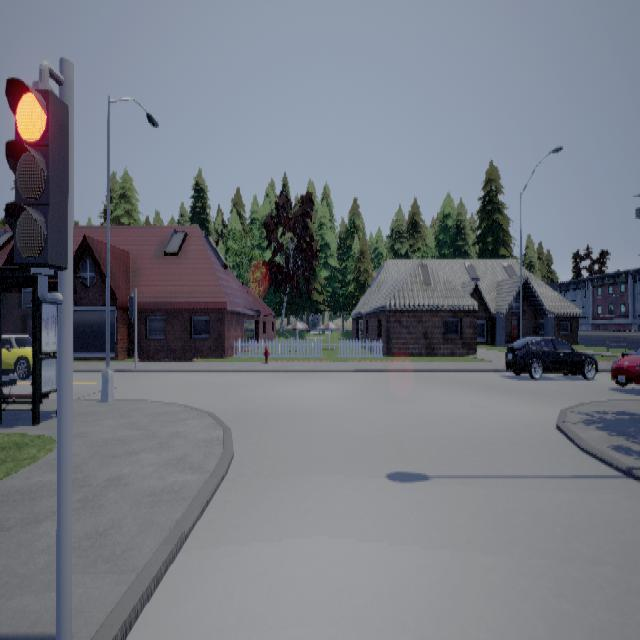red_light: (5, 59, 70, 303)
vehicle: (506, 335, 599, 379), (3, 333, 33, 379), (612, 347, 640, 386)
